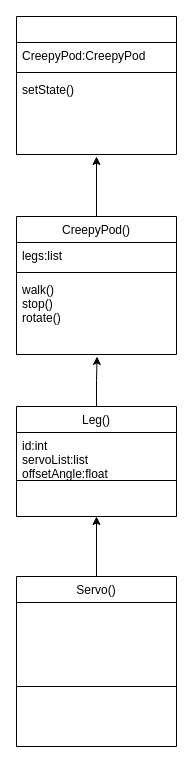
Some shapes in this 193 by 763 pixel diagram are drawn without their labels. The shapes that lost their labels are listed below. From the top down, each one's box as (x1, y1, x2, y2) in pixels, then its label:
(16, 16, 176, 154): CreepyState()
(16, 602, 176, 686): minPos:int maxPos:int speed:int acceleration:int pos:int
